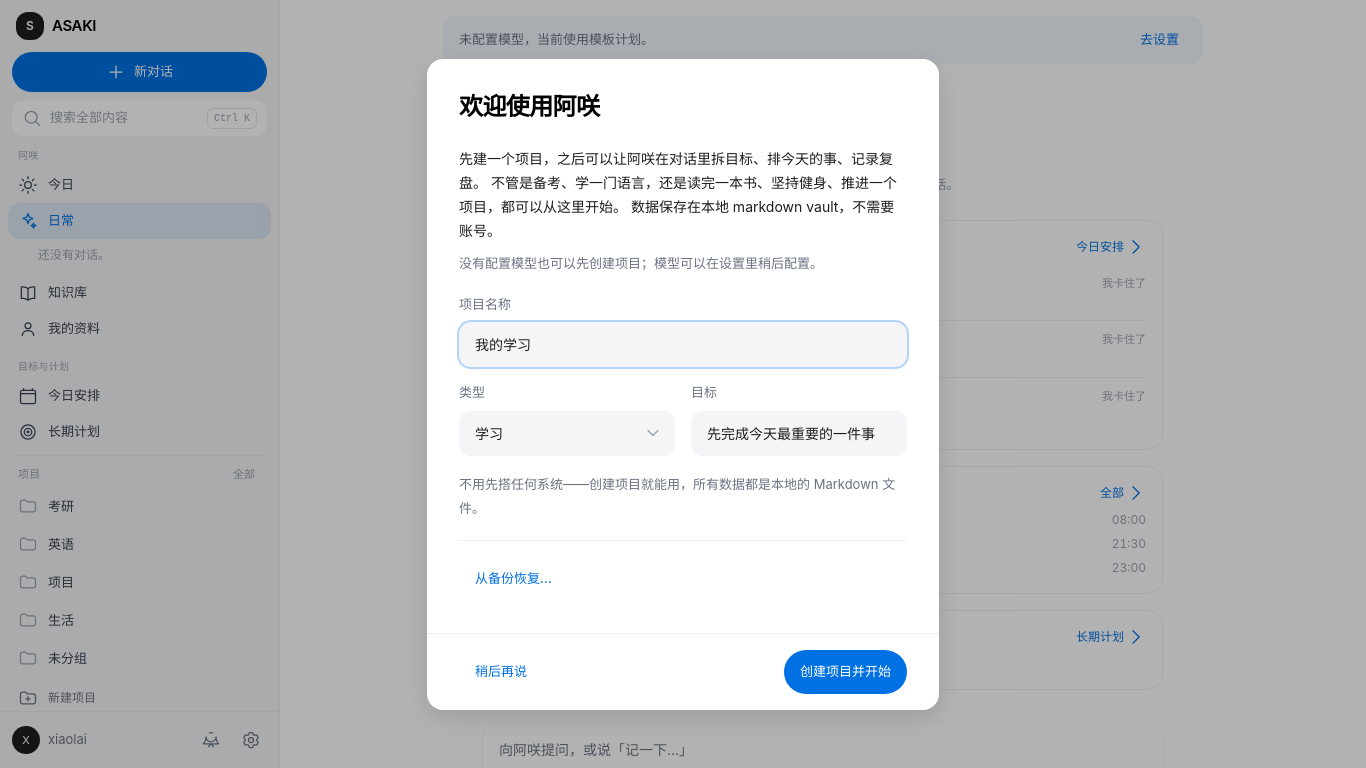
Scenario: the first-run dialog speaks to any goal, not only exams
This screenshot has width=1366, height=768.
Expected: the heading "欢迎使用阿咲" is shown, [459,92,599,120]
Expected: the text "读完一本书、坚持健身、推进一个项目" is shown, [459,150,897,238]
Click the dropdown named "类型": x=567, y=433 [459,410,675,456]
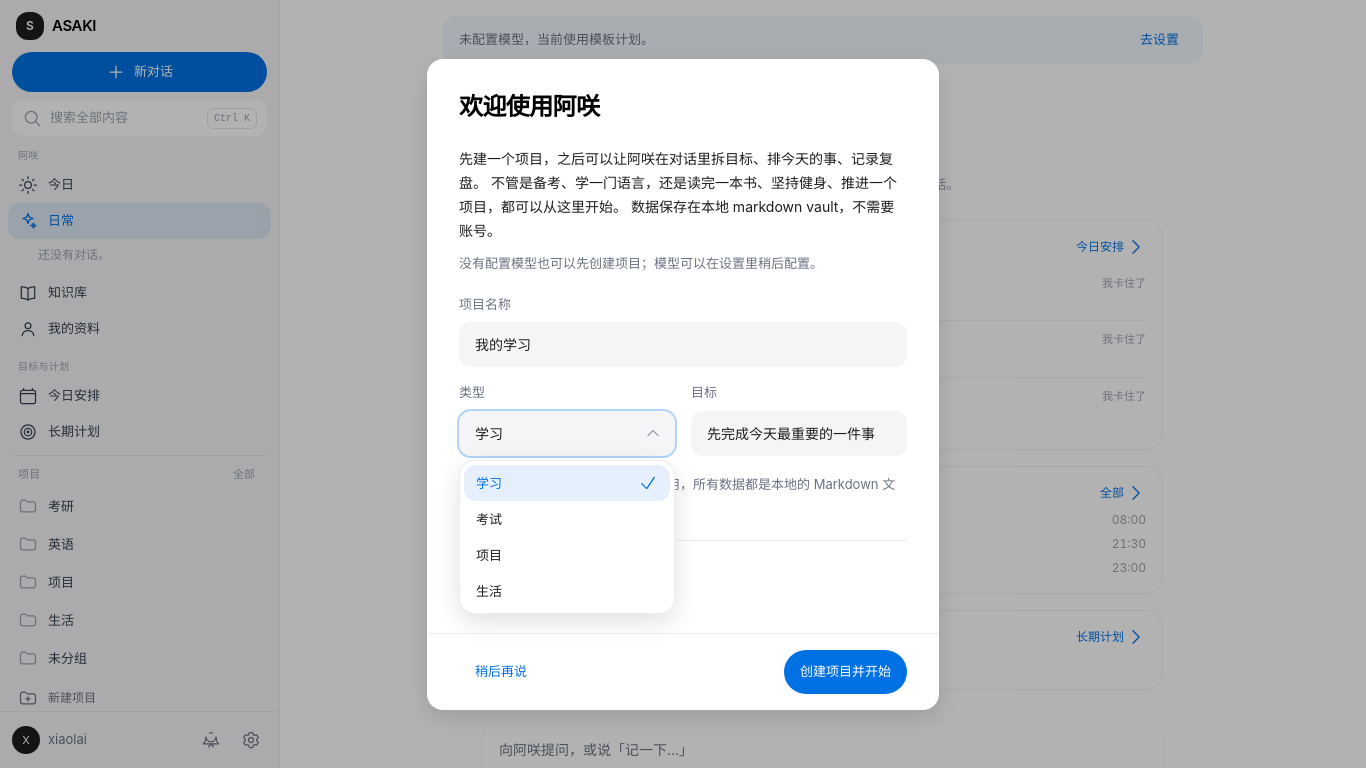
Expected: the options read "学习", "考试", "项目", "生活", in this order, [464,464,670,500]; [464,500,670,536]; [464,536,670,572]; [464,572,670,608]
